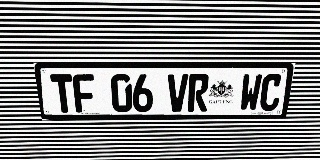0: (110, 74, 132, 112)
6: (132, 74, 153, 112)
C: (258, 74, 283, 111)
F: (72, 74, 96, 112)
R: (187, 74, 209, 112)
T: (50, 74, 75, 113)
V: (167, 74, 188, 112)
W: (239, 74, 263, 111)
